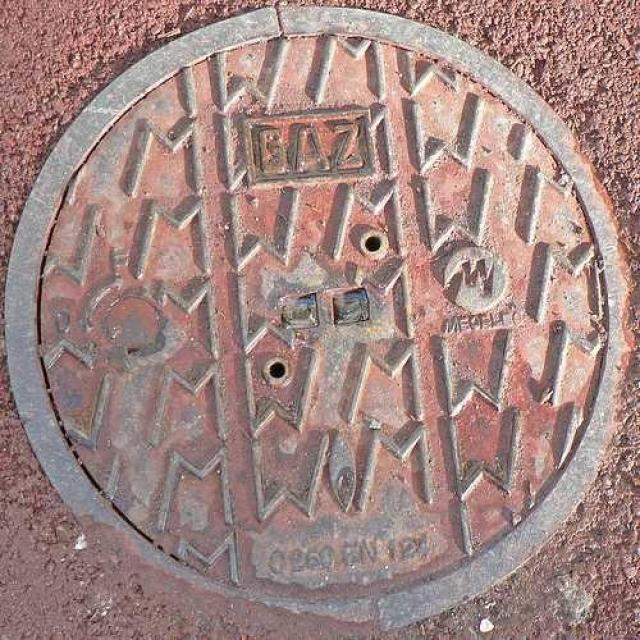manhole: (6, 7, 627, 624)
